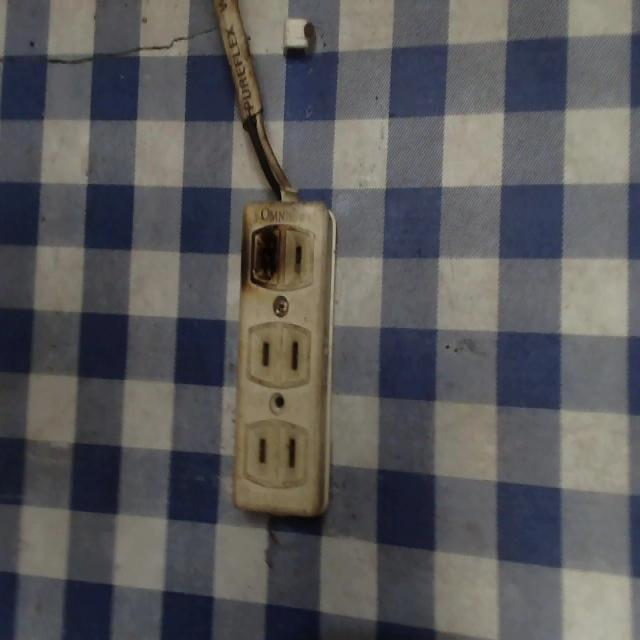-: (234, 217, 288, 292)
